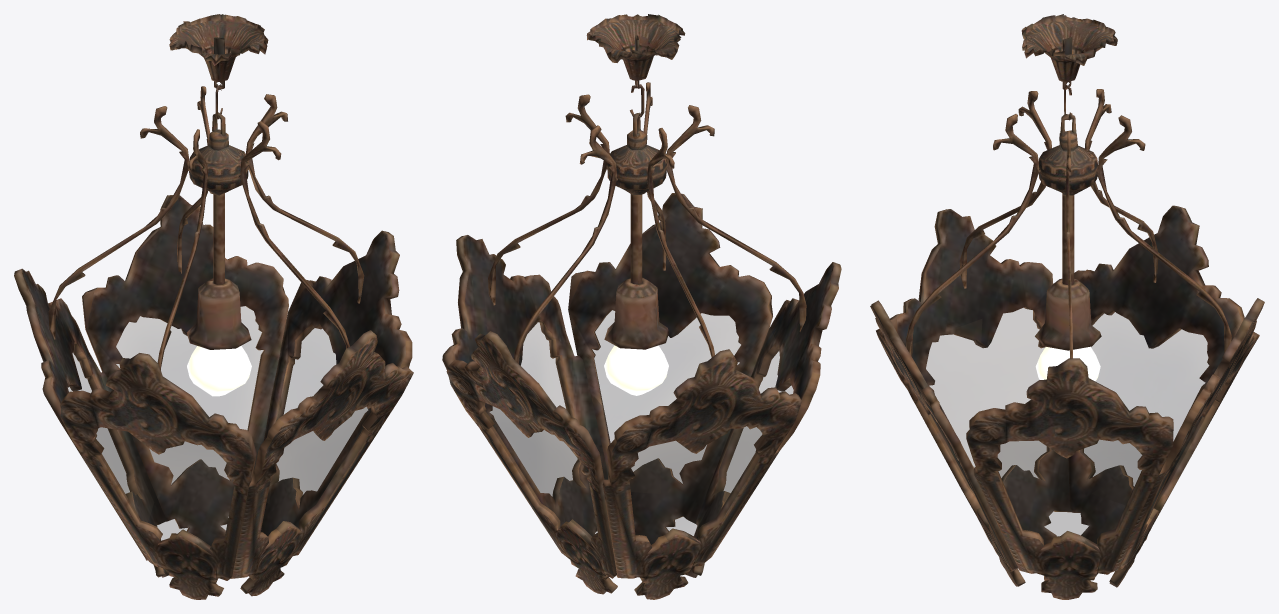
Rendered from lantern_chandelier_01.glb.
3 renders of one model, left to right at view 1: azimuth 30°, elevation 25°; view 2: azimuth 150°, elevation 25°; view 3: azimuth 270°, elevation 25°, orthographic.
Parts seen in each view (by area): view 1: lantern_chandelier_01; view 2: lantern_chandelier_01; view 3: lantern_chandelier_01.
Boxes of the visible parts, left/top/right/bottom form: lantern_chandelier_01: left=14, top=14, right=413, bottom=599; lantern_chandelier_01: left=442, top=14, right=841, bottom=599; lantern_chandelier_01: left=870, top=14, right=1264, bottom=599.
Bounding box in the file's own units: 0.5792 × 0.8776 × 0.5746.
3 materials, 2 textured.
